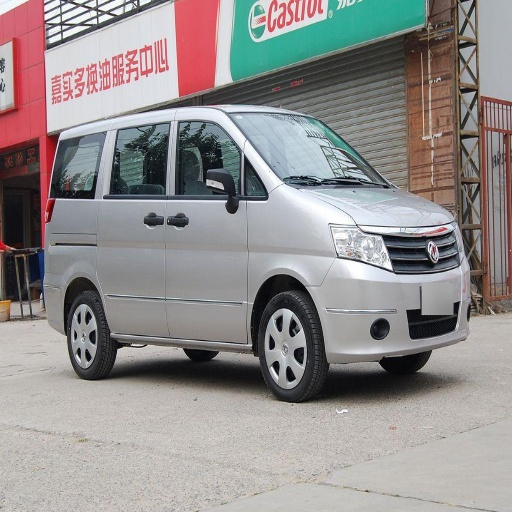front_bumper: (312, 223, 469, 363)
front_right_door: (163, 118, 248, 339)
front_right_light: (330, 220, 390, 269)
trunk: (45, 219, 106, 310)
